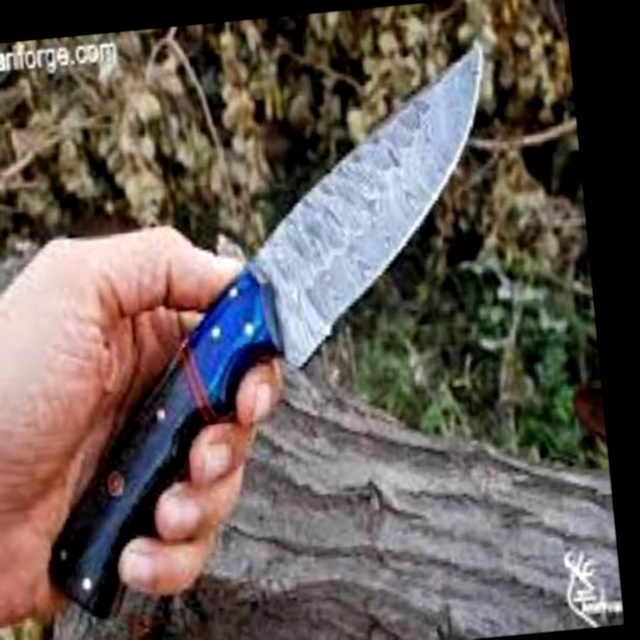Sharp-Object: (4, 49, 533, 625)
